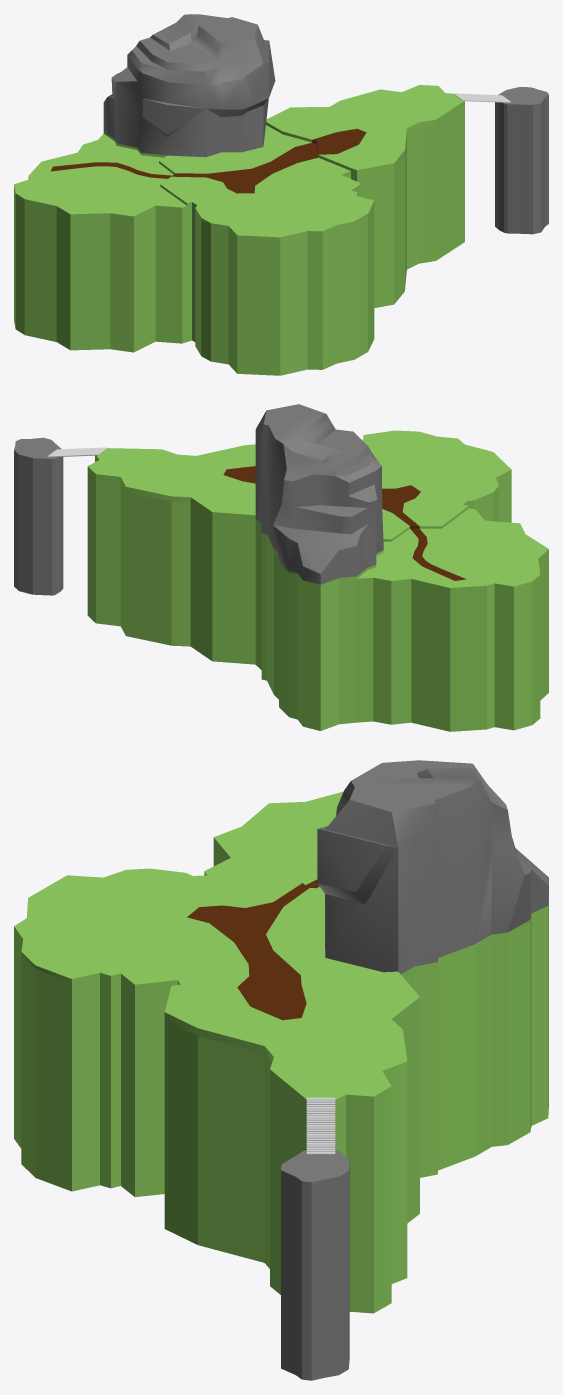
Rendered from 지형더미 (1).fbx.
3 renders of one model, top to bottom at view 1: azimuth 30°, elevation 25°; view 2: azimuth 150°, elevation 25°; view 3: azimuth 270°, elevation 25°, orthographic. The views are drawn at different scales.
Visible parts, largest first — view 1: Line001, Object004, Cylinder005; view 2: Line001, Object004, Cylinder005, Object003; view 3: Line001, Object004, Cylinder005, Object003.
Boxes of the visible parts, box(x1,y1,x2,y2) form: Line001: box(14, 85, 464, 375); Object004: box(103, 14, 275, 157); Cylinder005: box(495, 87, 548, 234); Line001: box(87, 430, 548, 731); Object004: box(255, 404, 383, 584); Cylinder005: box(14, 437, 63, 595); Object003: box(47, 447, 107, 457); Line001: box(14, 791, 548, 1313); Object004: box(317, 760, 548, 973); Cylinder005: box(281, 1149, 349, 1380); Object003: box(306, 1097, 335, 1154).
Size of the model in its own units: 506 by 229 by 299.
